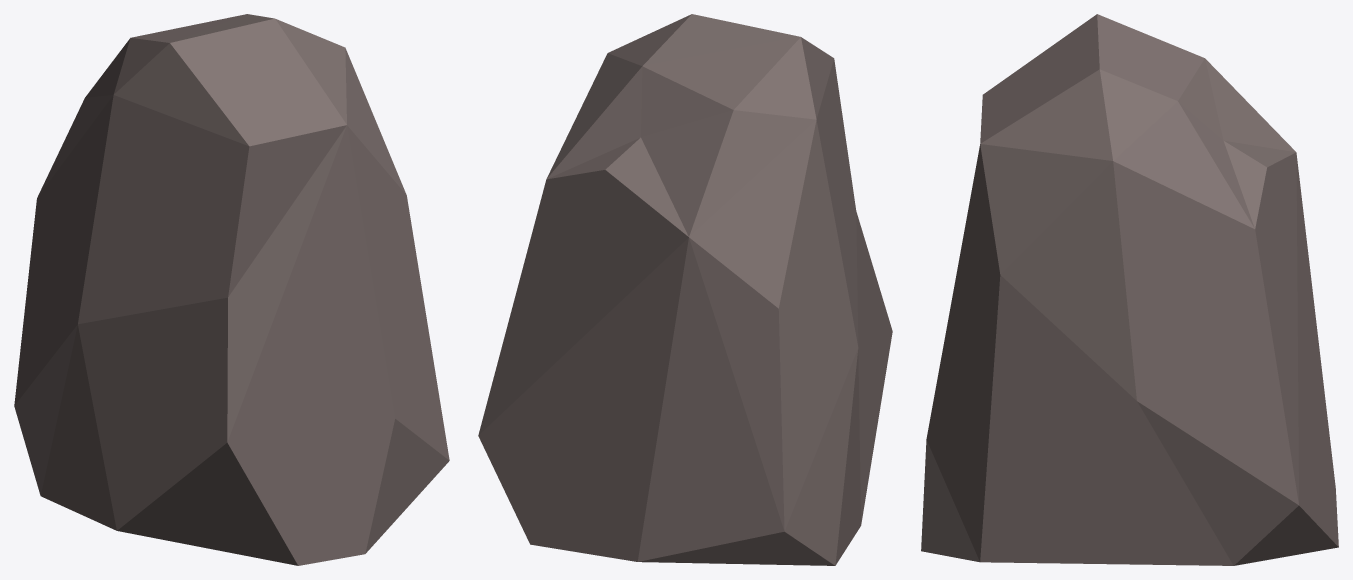
File: TallRock.fbx
3 renders of one model, left to right at view 1: azimuth 30°, elevation 25°; view 2: azimuth 150°, elevation 25°; view 3: azimuth 270°, elevation 25°, orthographic.
Parts seen in each view (by area): view 1: TallRock; view 2: TallRock; view 3: TallRock.
Part boxes in pixels (bbox=[...]): TallRock: bbox=[14, 14, 449, 565]; TallRock: bbox=[478, 14, 892, 565]; TallRock: bbox=[921, 14, 1338, 565].
Bounding box in the file's own units: 170 × 246 × 193.
